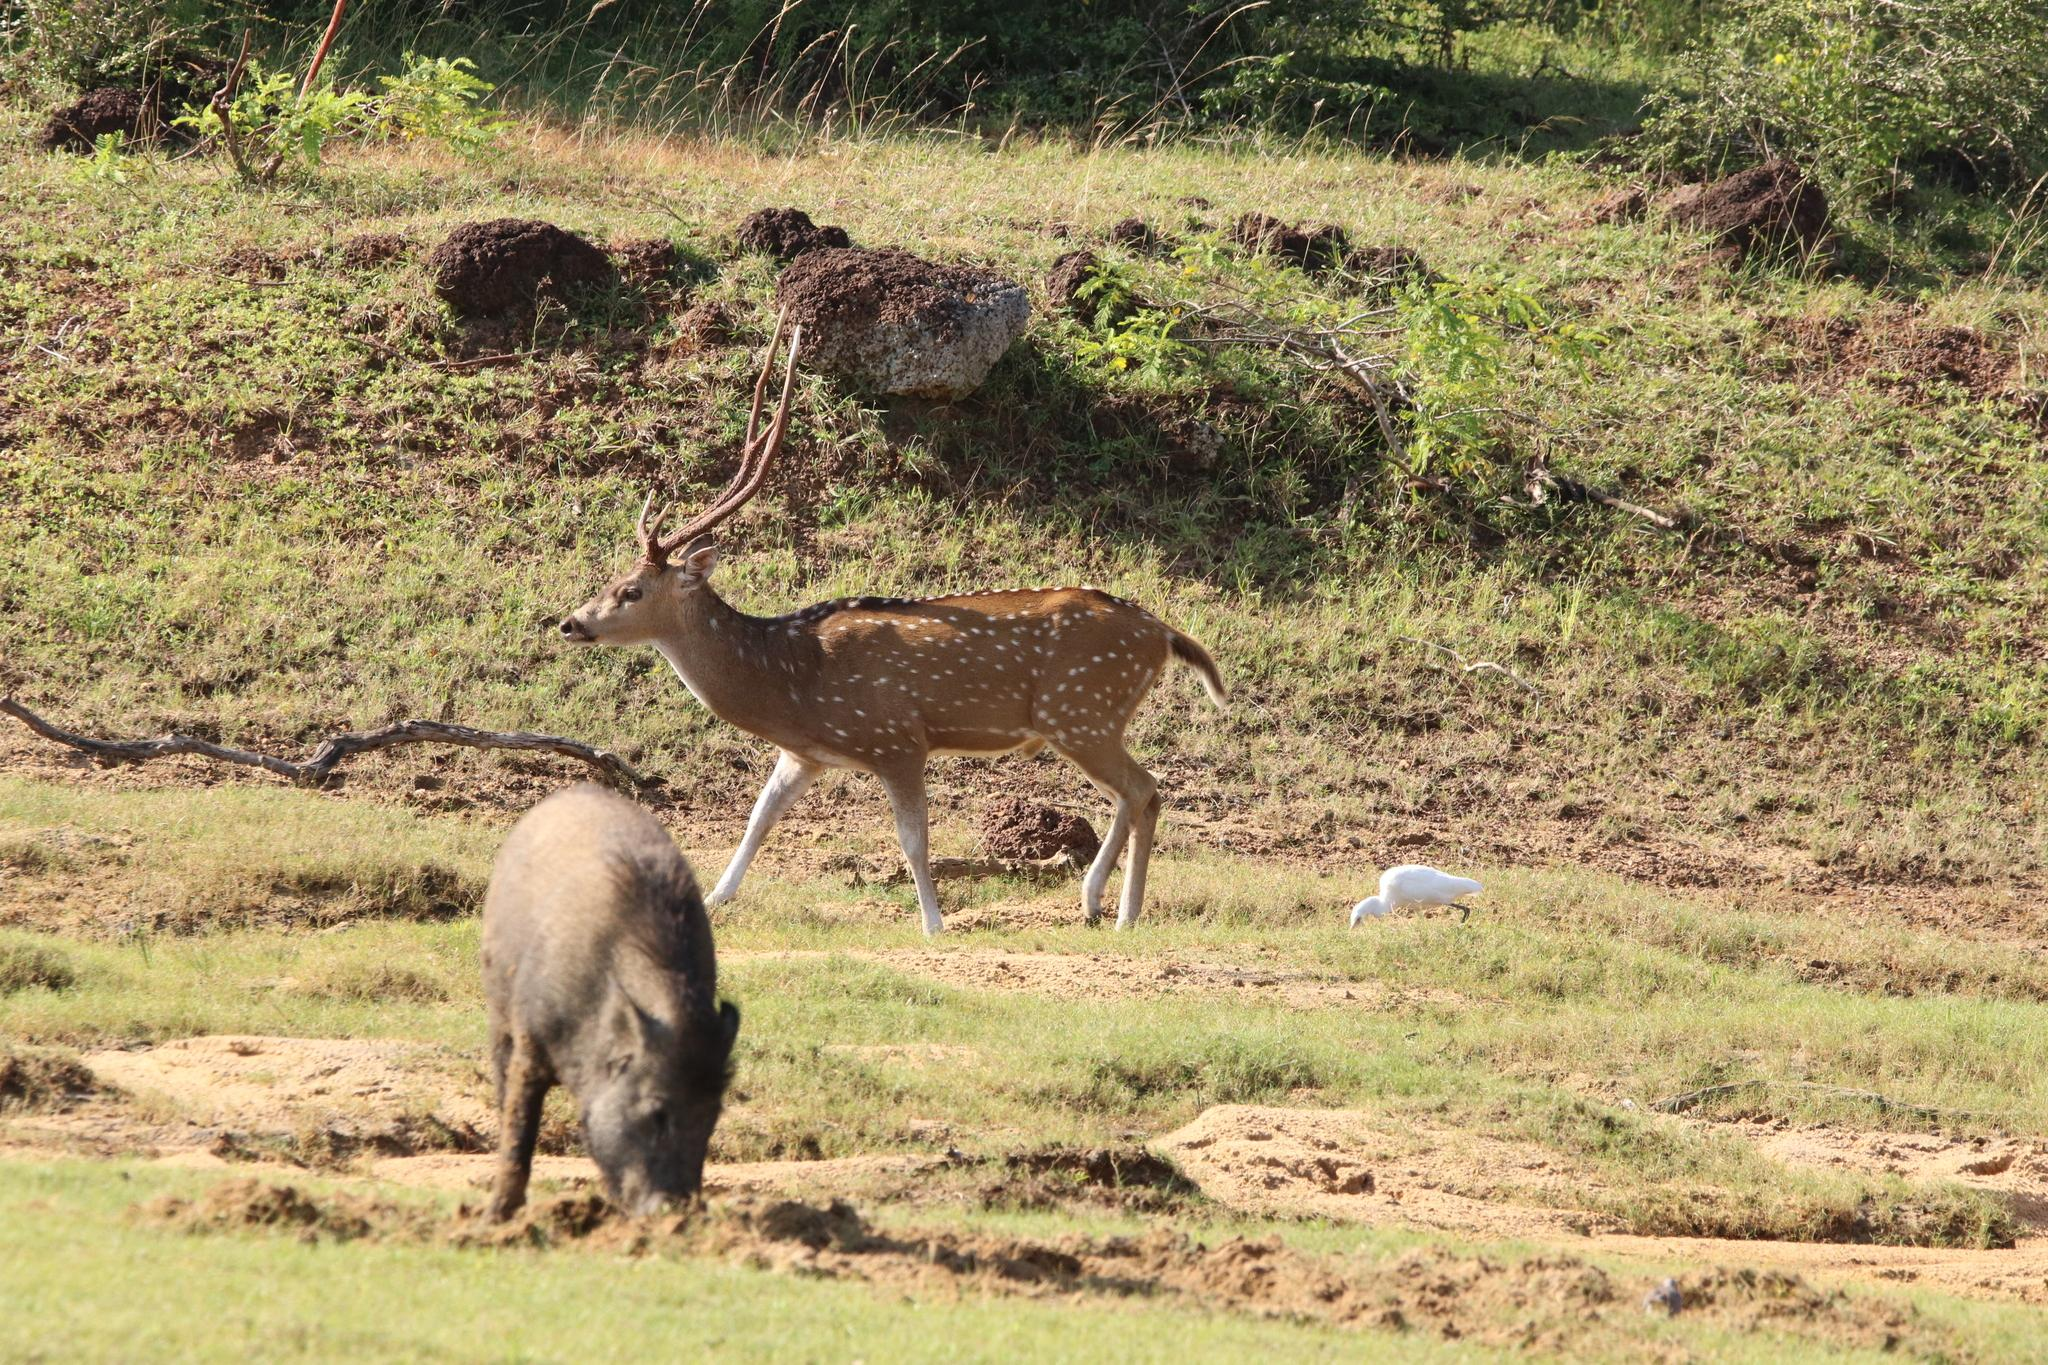Deer: (557, 320, 1227, 934)
